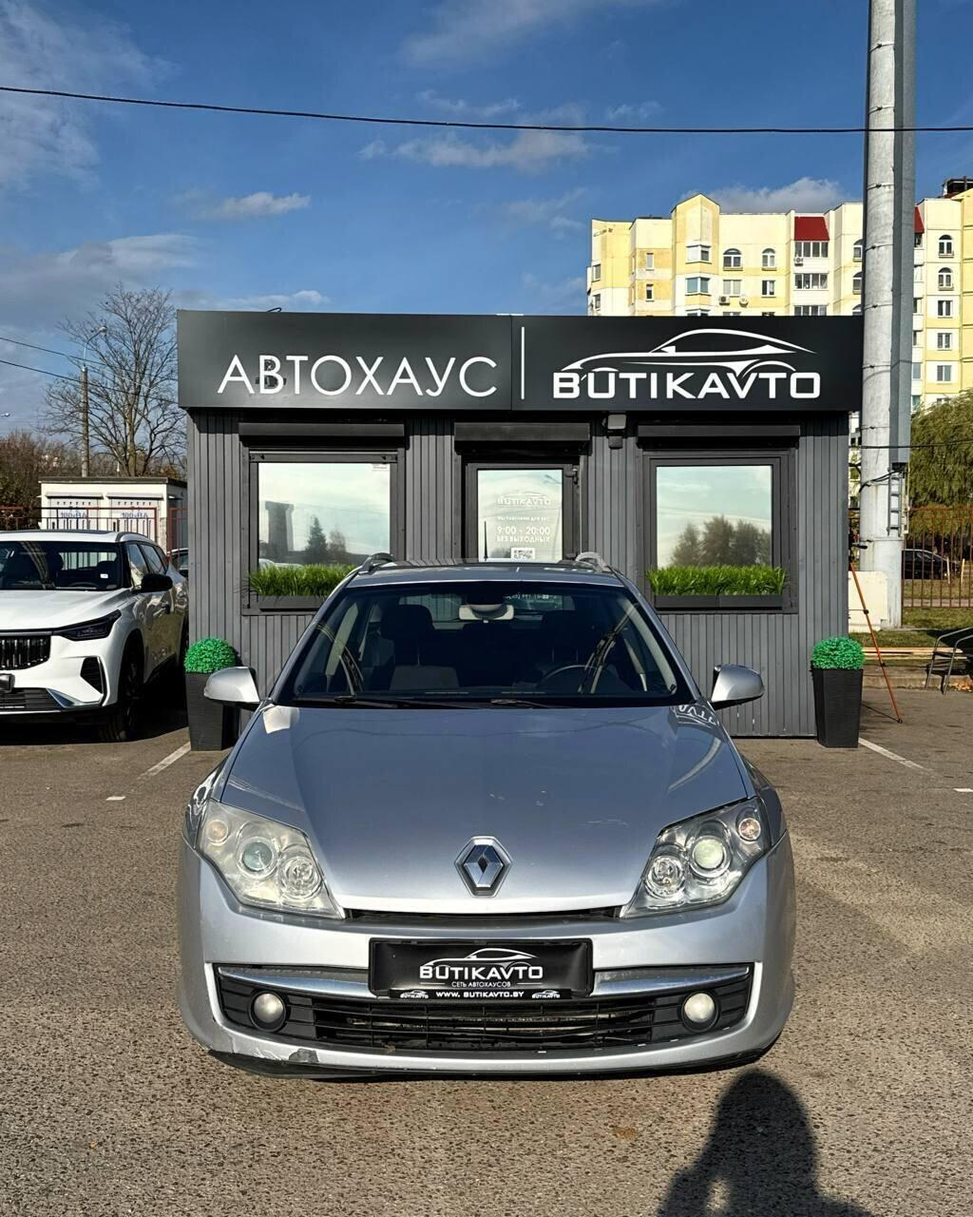Laguna_2007-2011: (178, 553, 794, 1080)
